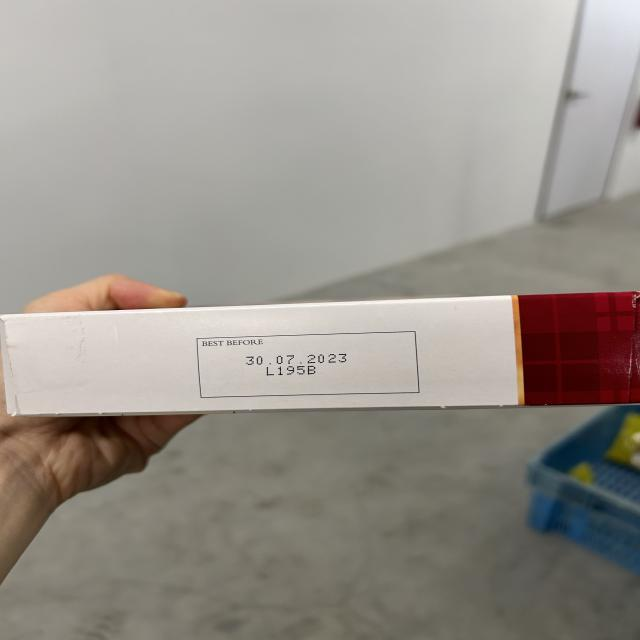object_name: (0, 306, 640, 407)
